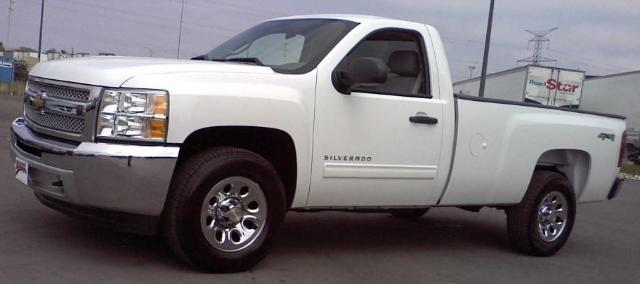pickup-truck: (7, 13, 631, 274)
